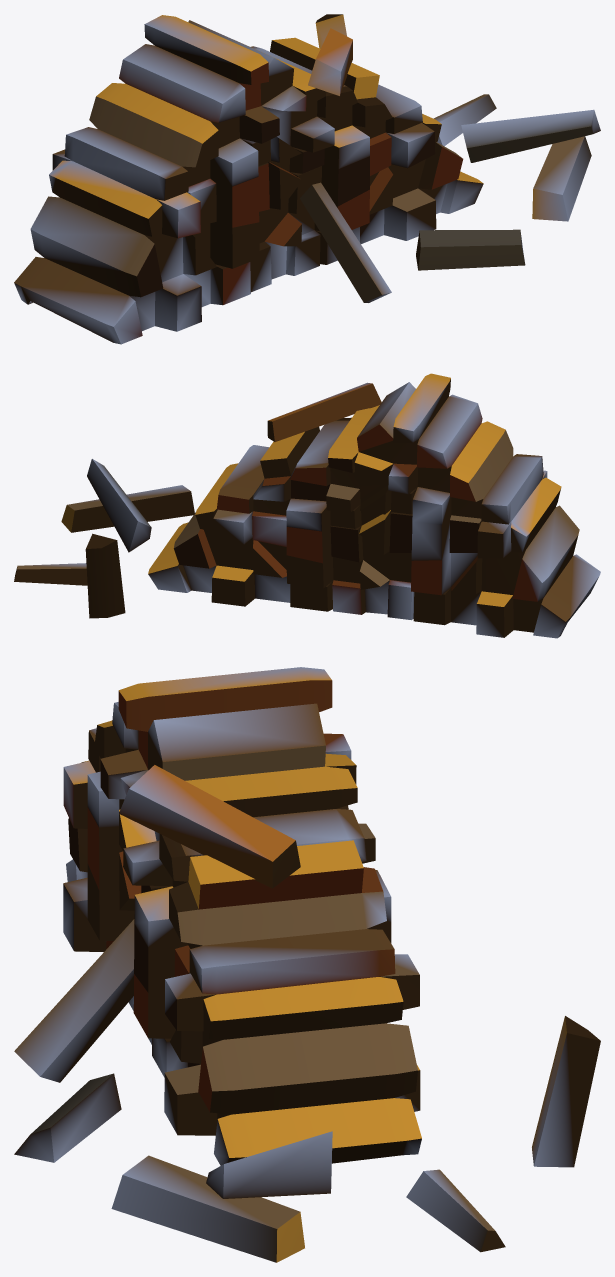
The model's file is Firewood_01.fbx.
3 views of the same model, one above another, from view 1: azimuth 30°, elevation 25°; view 2: azimuth 150°, elevation 25°; view 3: azimuth 270°, elevation 25° (orthographic). The views are drawn at different scales.
Parts seen in each view (by area): view 1: Firewood_01; view 2: Firewood_01; view 3: Firewood_01.
Boxes of the visible parts, bbox=[...] form: Firewood_01: bbox=[14, 14, 600, 344]; Firewood_01: bbox=[14, 373, 600, 638]; Firewood_01: bbox=[14, 667, 600, 1262].
Size of the model in its own units: 3165 by 1265 by 2011.
